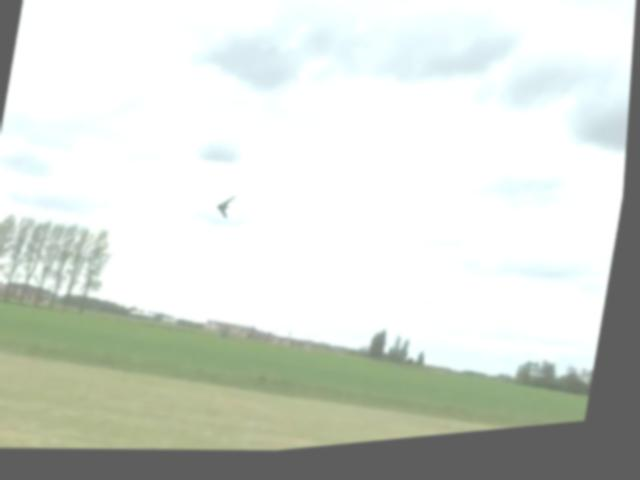flying wing: (213, 197, 242, 229)
